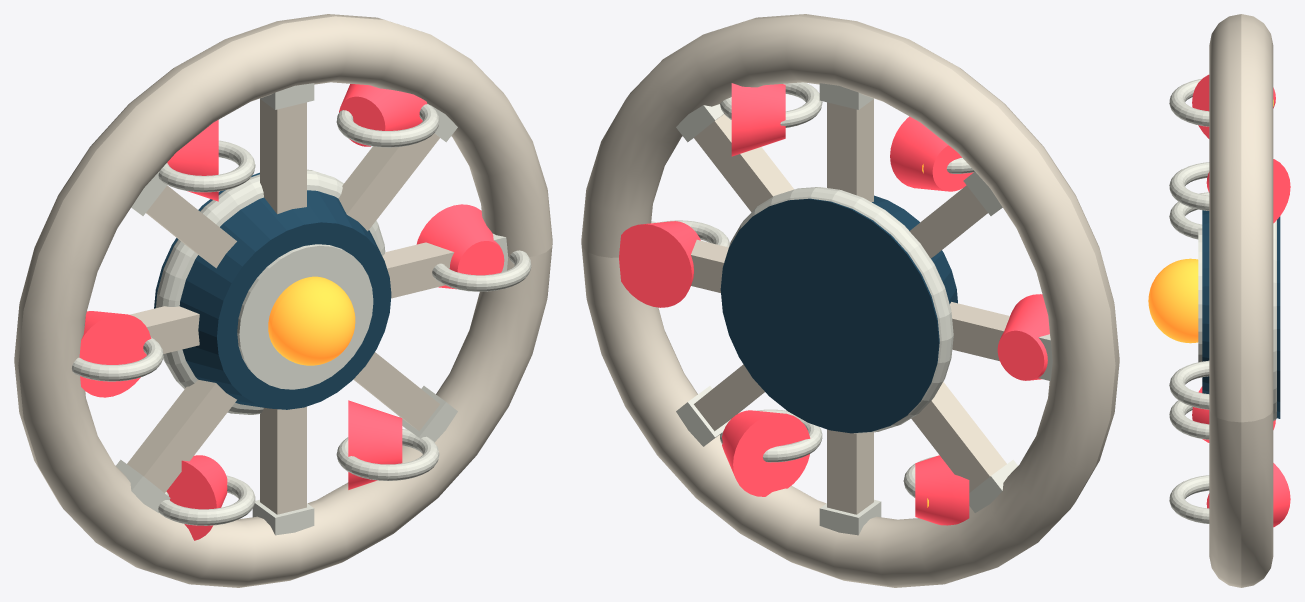
The model's file is guardian-high.glb.
3 views of the same model, side by side, from view 1: azimuth 30°, elevation 25°; view 2: azimuth 150°, elevation 25°; view 3: azimuth 270°, elevation 25° (orthographic). The views are drawn at different scales.
Parts seen in each view (by area): view 1: motion-wheel, porcelain_static, hull_static, accent_static, telegraph_socket (×6), exposed_core; view 2: motion-wheel, accent_static, hull_static, telegraph_socket (×6), porcelain_static; view 3: motion-wheel, porcelain_static, exposed_core, telegraph_socket (×4), accent_static.
Boxes of the visible parts, bbox=[...] form: motion-wheel: bbox=[14, 14, 552, 587]; porcelain_static: bbox=[72, 83, 531, 535]; hull_static: bbox=[127, 99, 453, 514]; accent_static: bbox=[154, 172, 391, 409]; telegraph_socket (×6): bbox=[79, 84, 504, 540]; exposed_core: bbox=[268, 276, 355, 365]; motion-wheel: bbox=[581, 14, 1119, 587]; accent_static: bbox=[720, 195, 957, 433]; hull_static: bbox=[691, 99, 1009, 514]; telegraph_socket (×6): bbox=[619, 83, 1049, 525]; porcelain_static: bbox=[651, 82, 1052, 535]; motion-wheel: bbox=[1209, 14, 1273, 587]; porcelain_static: bbox=[1169, 79, 1276, 523]; exposed_core: bbox=[1148, 258, 1198, 343]; telegraph_socket (×4): bbox=[1192, 74, 1290, 527]; accent_static: bbox=[1202, 210, 1280, 418].
Size of the model in its own units: 3400 by 3400 by 842.
